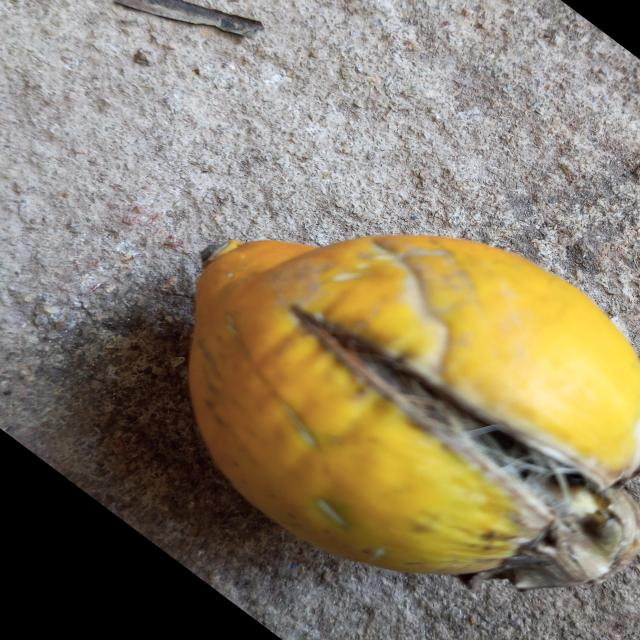damaged: (187, 235, 640, 594)
